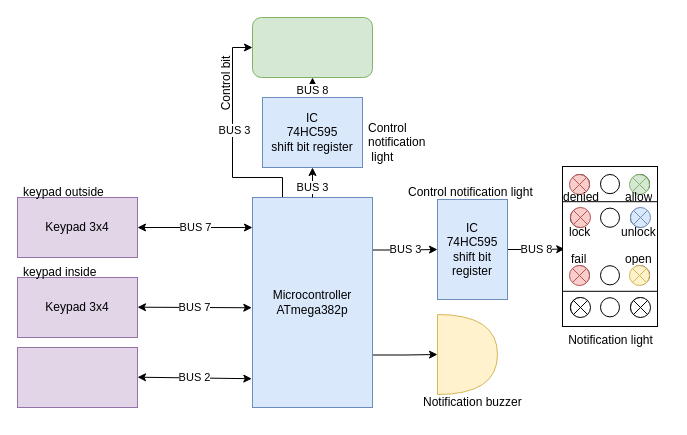
Image size: 687x435. Some labels were removed from this diagram. The shapes that lost their labels are listed below. From the top down, each one's centre as x and y in pixels, then its label:
At (x=312, y=47): "LCD 16X2".
At (x=467, y=354): "buzzer 5v".
At (x=77, y=377): "Switch 3 position".
